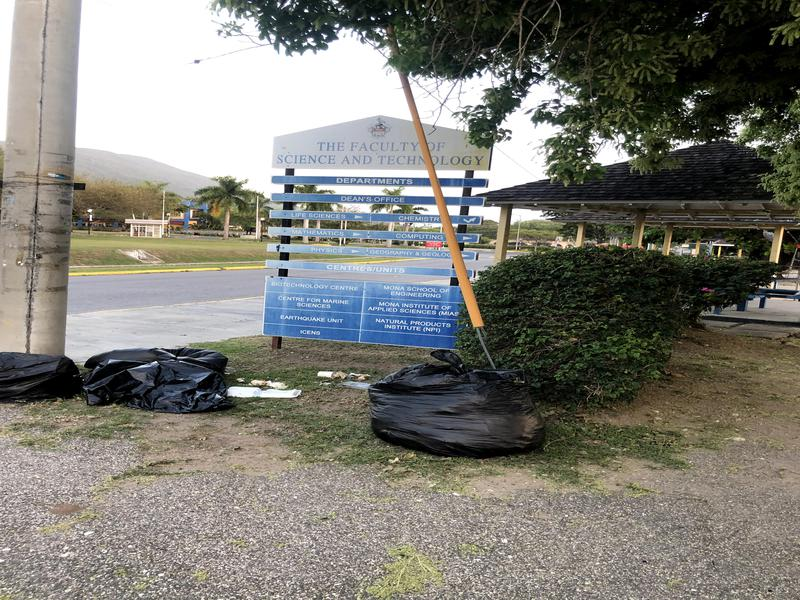18.0055634_-76.7484079_scitechsign: (250, 101, 493, 371)
